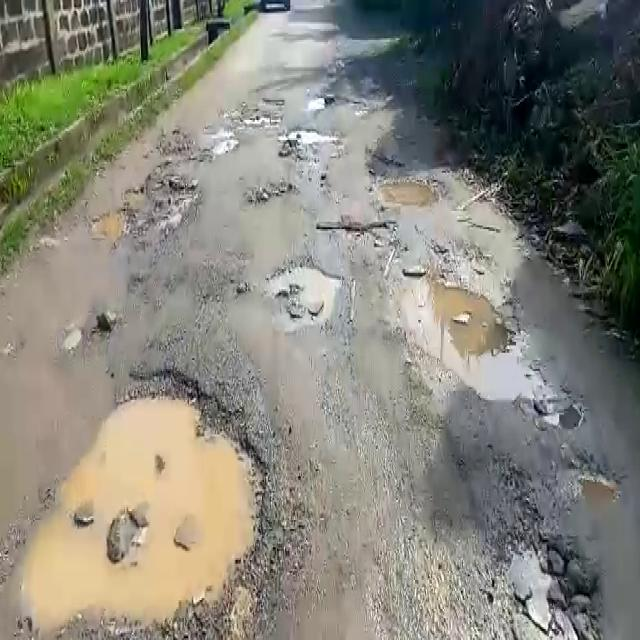Pothole: (36, 361, 272, 634), (392, 276, 551, 404), (480, 530, 600, 636), (101, 168, 200, 245), (269, 259, 339, 327), (371, 169, 442, 209), (319, 219, 401, 249), (246, 178, 298, 206), (282, 124, 339, 147), (237, 107, 280, 127)
